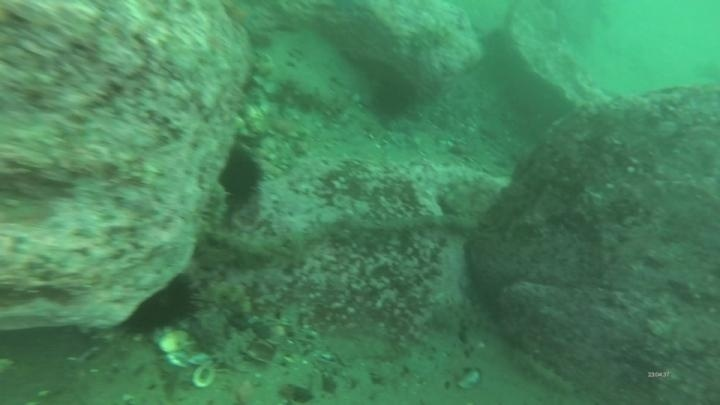echinus: (123, 272, 201, 337), (218, 146, 266, 205), (368, 74, 418, 122)
holothurian: (251, 61, 348, 119), (196, 226, 301, 273), (509, 349, 579, 401), (196, 277, 256, 318), (196, 179, 232, 238)
